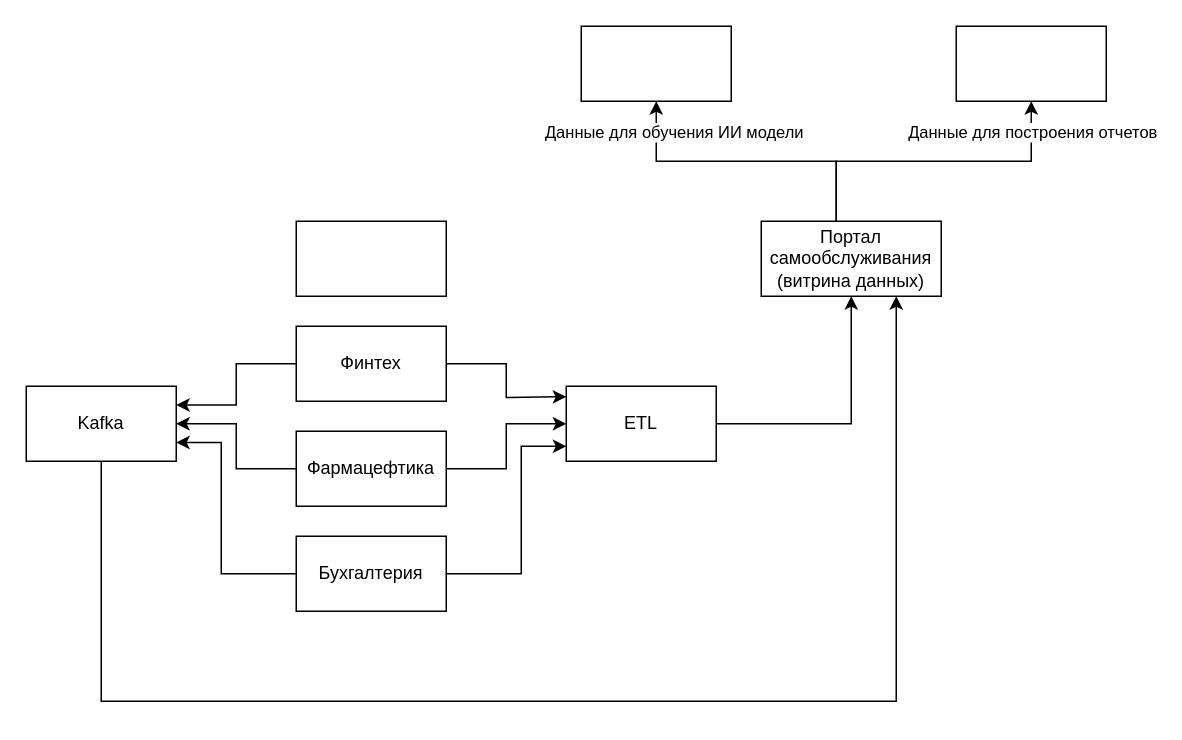
This 1182x740 diagram has some shape labels left out. The shapes that lost their labels are listed below. From the top down, each one's box as (x1, y1, x2, y2) in pixels, then its label:
(580, 25, 731, 101): ИИ-отдел
(955, 25, 1106, 101): Bi-система
(295, 220, 446, 296): Медицина
